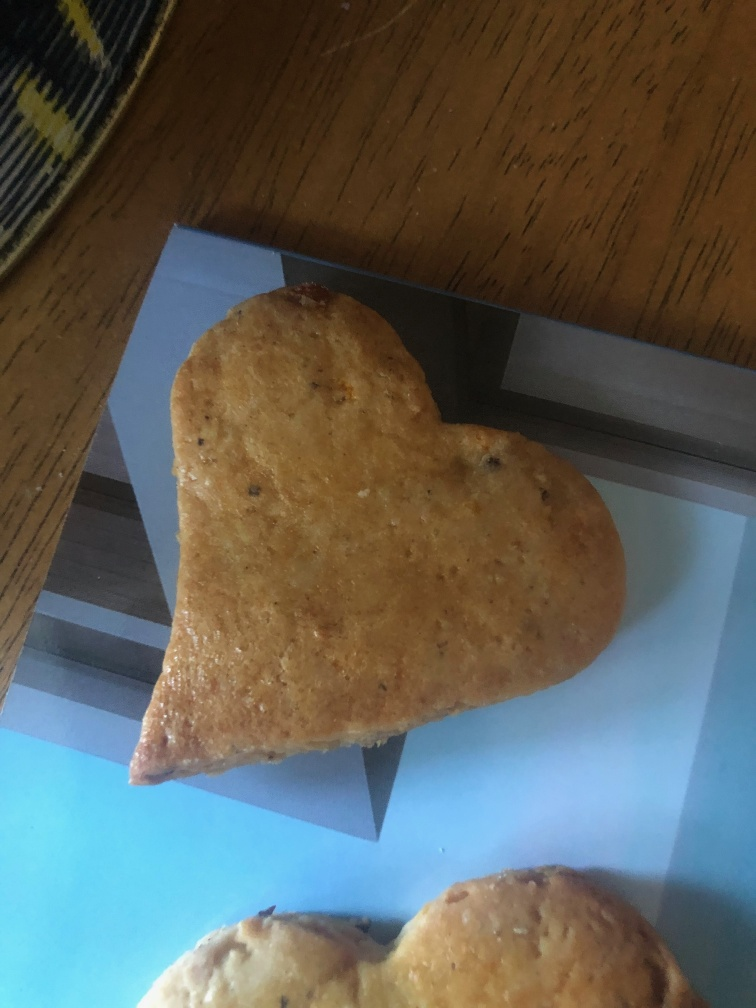heart: (124, 282, 626, 792)
